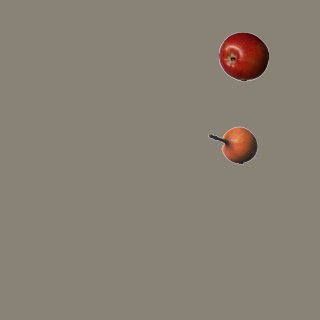Apple Braeburn: (218, 31, 268, 81)
Granadilla: (207, 120, 257, 170)
